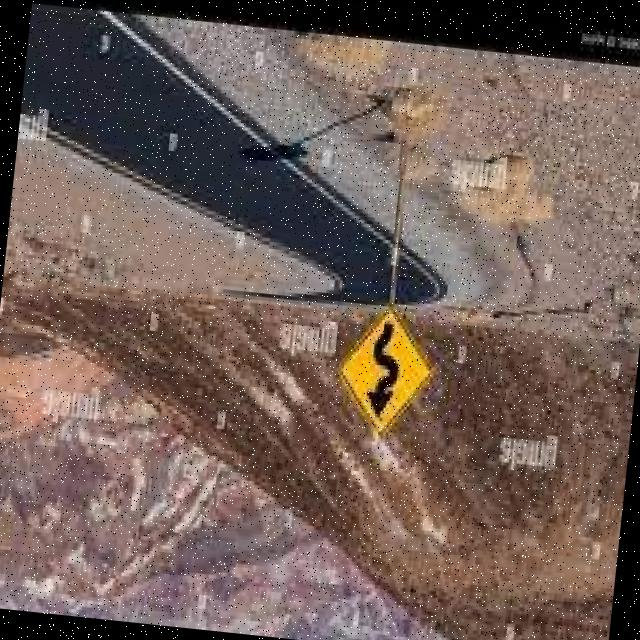left_sharp_curve: (322, 298, 439, 451)
